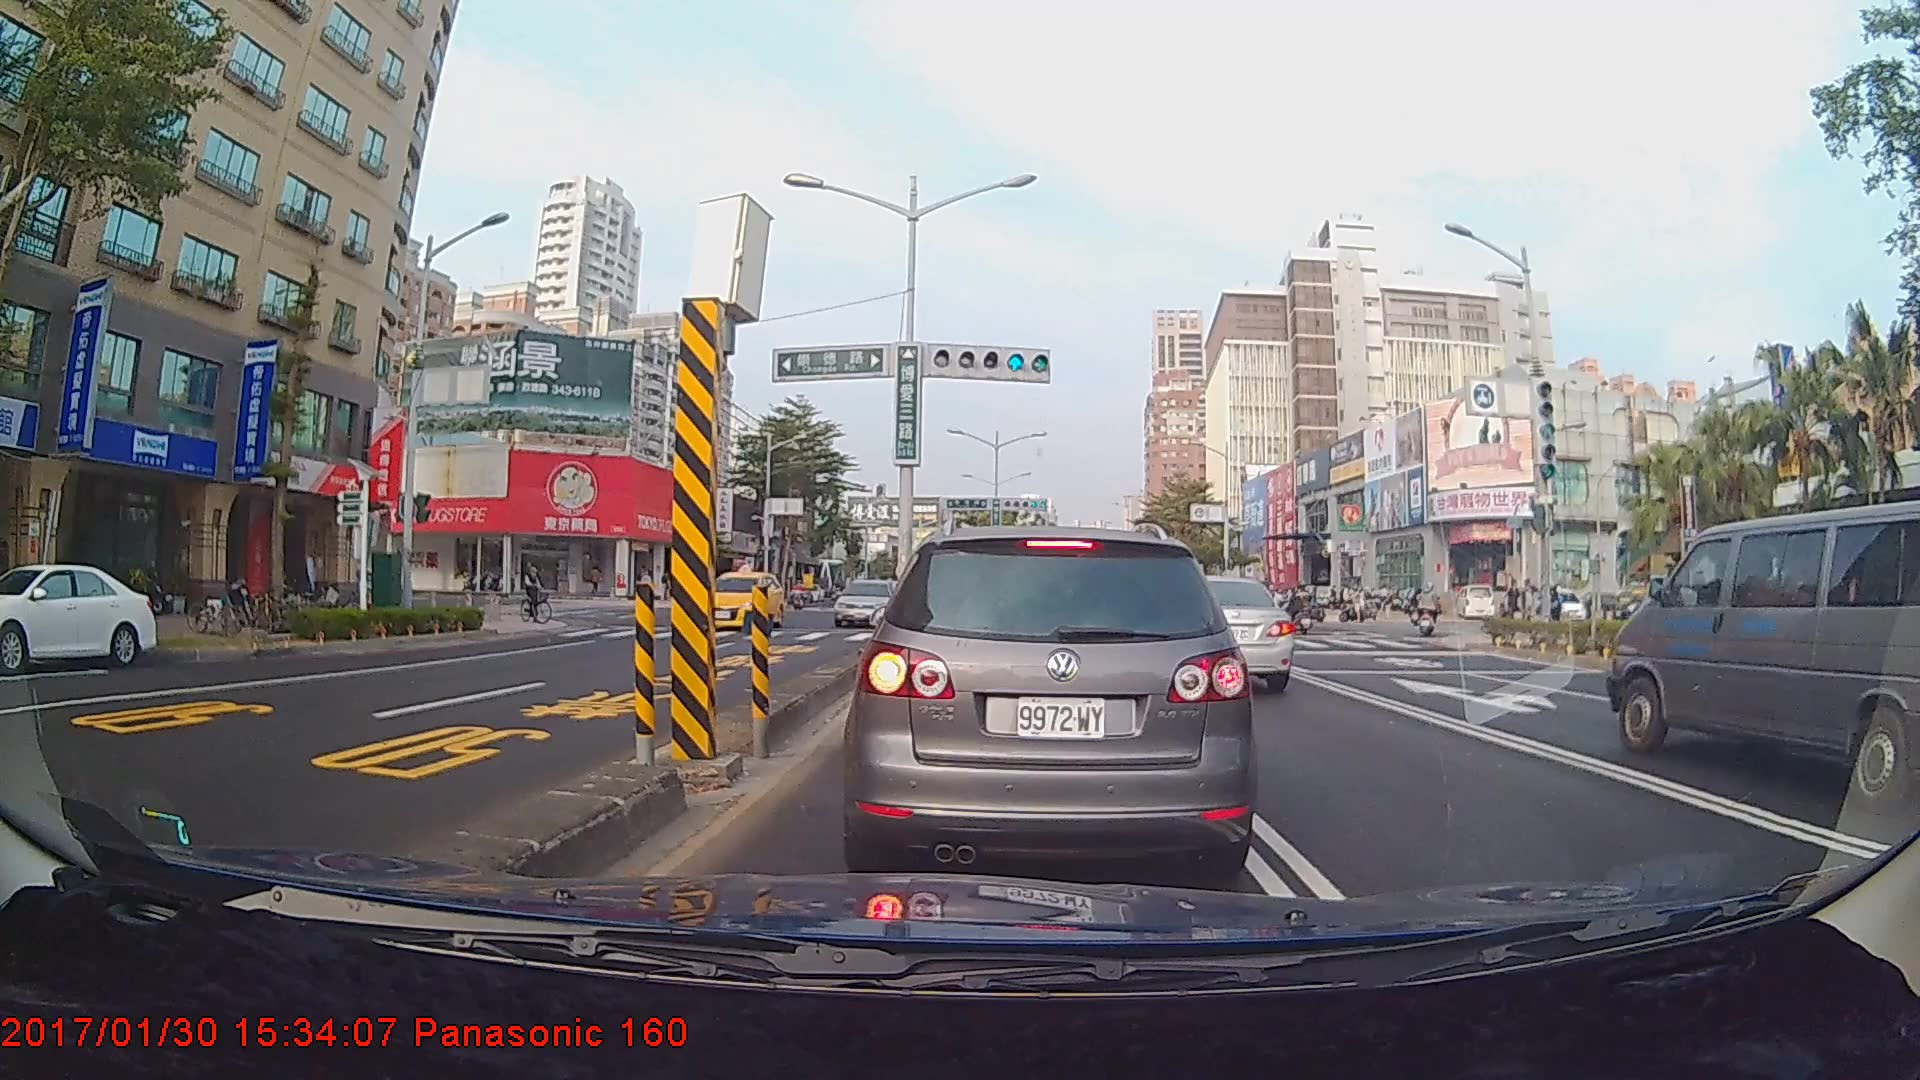rider: (1278, 580, 1327, 642), (518, 559, 561, 629), (1414, 582, 1442, 640)
vehicle: (855, 524, 1244, 878), (1606, 498, 1920, 816), (1121, 576, 1295, 695), (0, 561, 160, 671), (690, 567, 784, 631), (832, 577, 902, 627)
